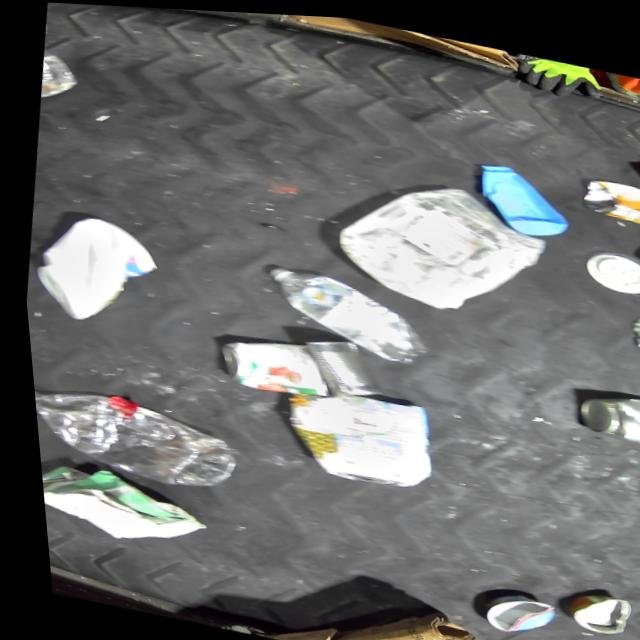can: (204, 323, 334, 401), (290, 328, 381, 399), (462, 579, 548, 638), (566, 380, 640, 442), (545, 579, 626, 634), (574, 170, 640, 223), (620, 302, 640, 352), (633, 148, 640, 192)
plastic_bottle: (26, 378, 238, 496), (251, 260, 428, 363)
